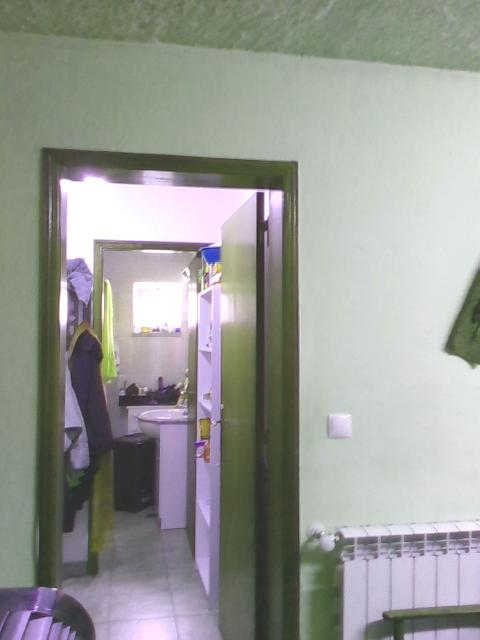open_door: (36, 146, 301, 638)
